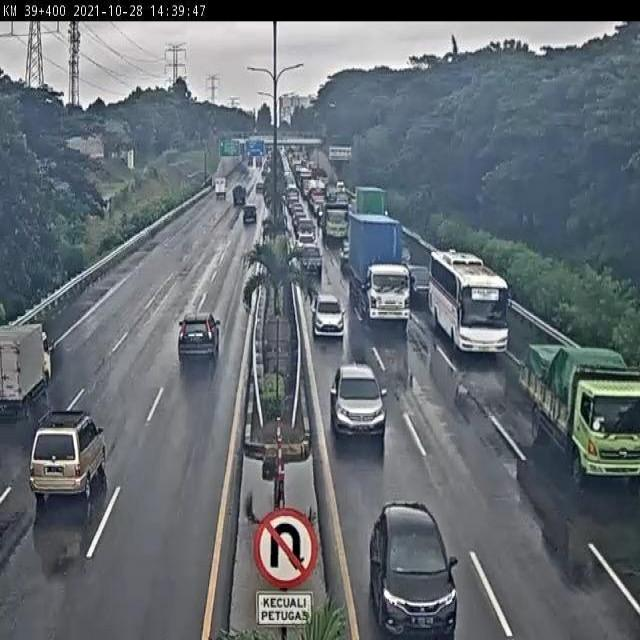big bus: (426, 237, 514, 359)
big truck: (346, 209, 413, 327), (353, 177, 390, 220)
car: (361, 496, 465, 640), (26, 400, 110, 505), (326, 359, 389, 445), (171, 300, 223, 372), (308, 288, 346, 341), (401, 259, 432, 304), (298, 244, 325, 281), (225, 187, 247, 216), (239, 204, 259, 231), (297, 230, 319, 254), (296, 222, 318, 242), (254, 178, 268, 198)
mid truck: (522, 338, 640, 490), (317, 201, 351, 244)
small truck: (0, 314, 57, 414), (210, 173, 228, 203)
